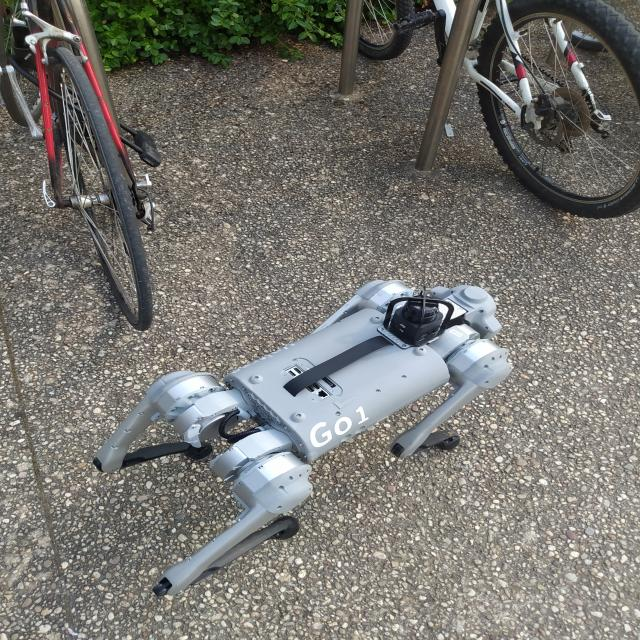unitree-go1-robot: (78, 260, 524, 616)
